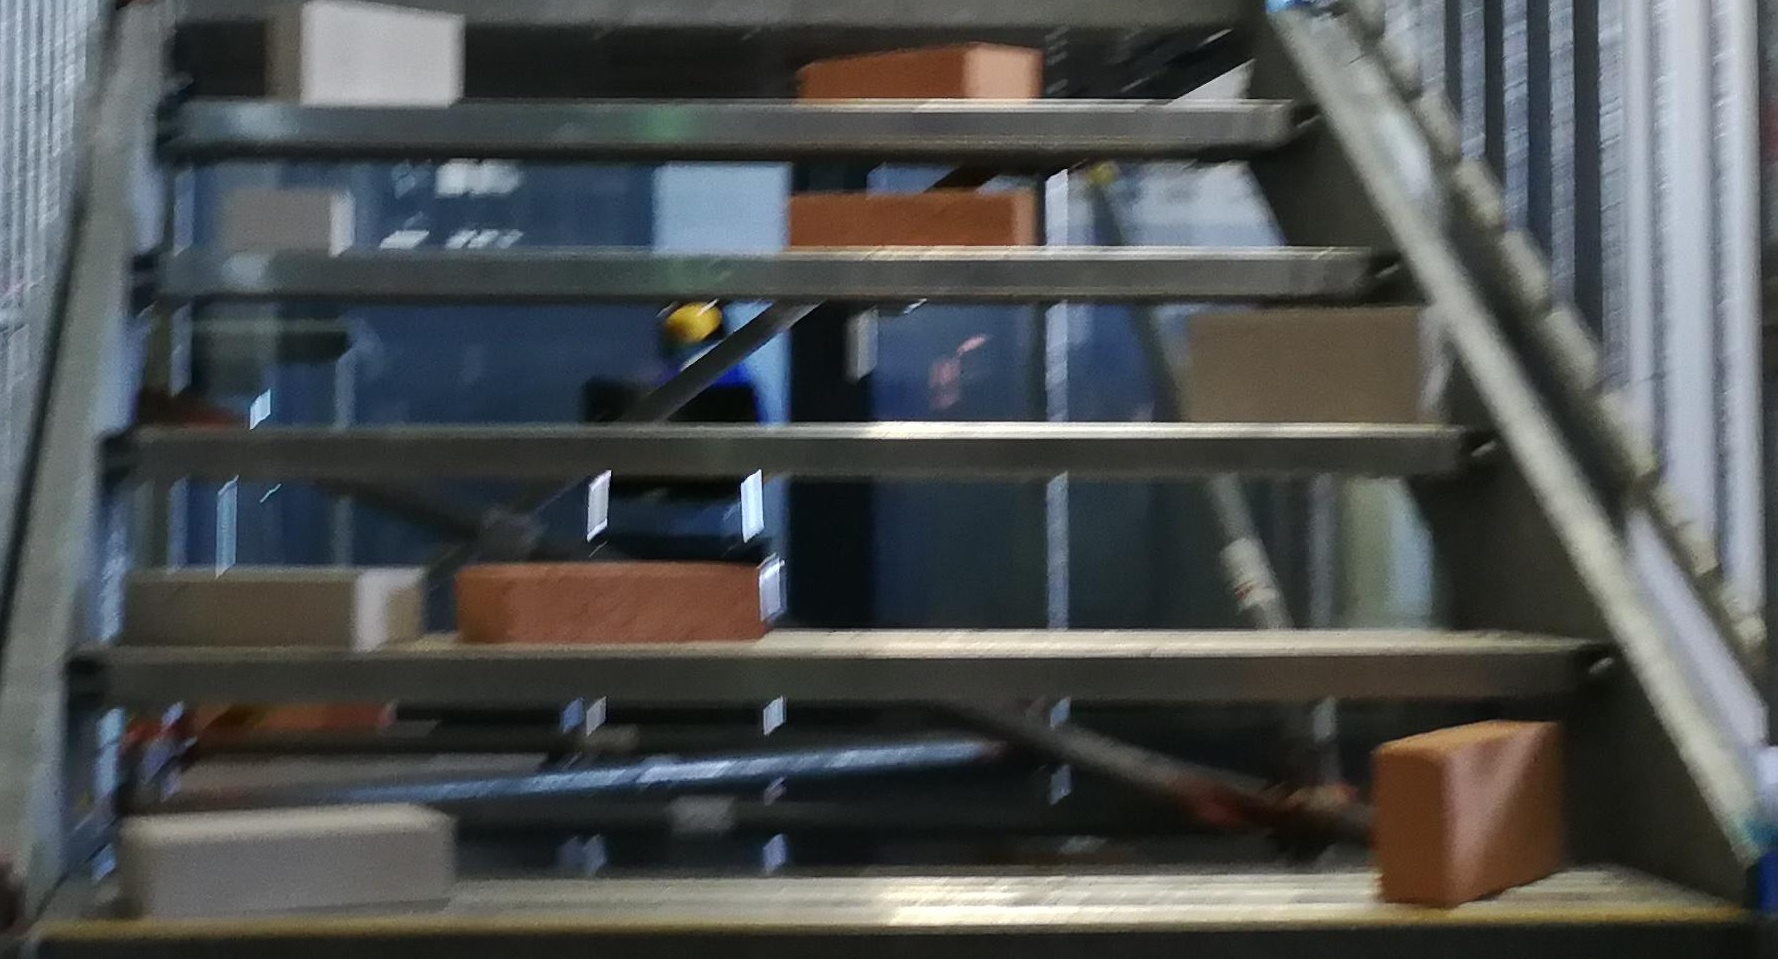brick: (1374, 719, 1570, 905), (120, 804, 449, 911), (1191, 309, 1445, 420), (460, 565, 758, 642), (126, 569, 416, 647), (272, 2, 456, 104), (791, 193, 1029, 244), (805, 47, 1035, 100)
edge: (66, 644, 1619, 702), (104, 425, 1510, 474), (43, 918, 1756, 955), (126, 253, 1410, 296), (162, 103, 1321, 146)
